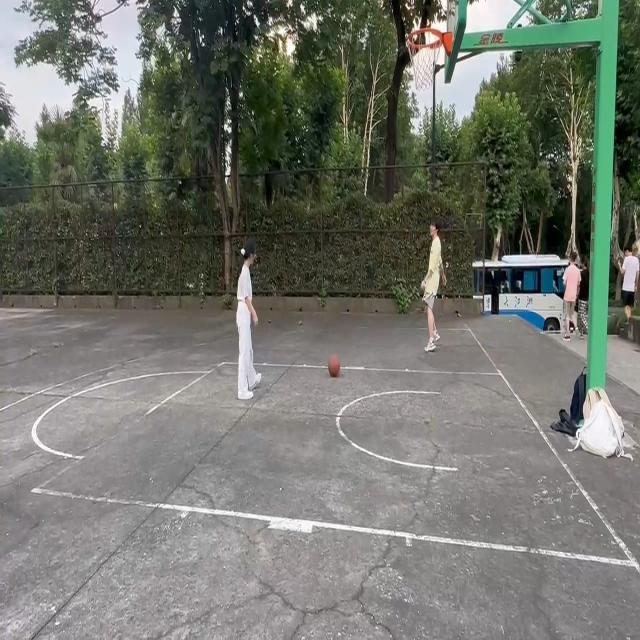basketball: (407, 32, 452, 96)
rim: (328, 353, 340, 377)
